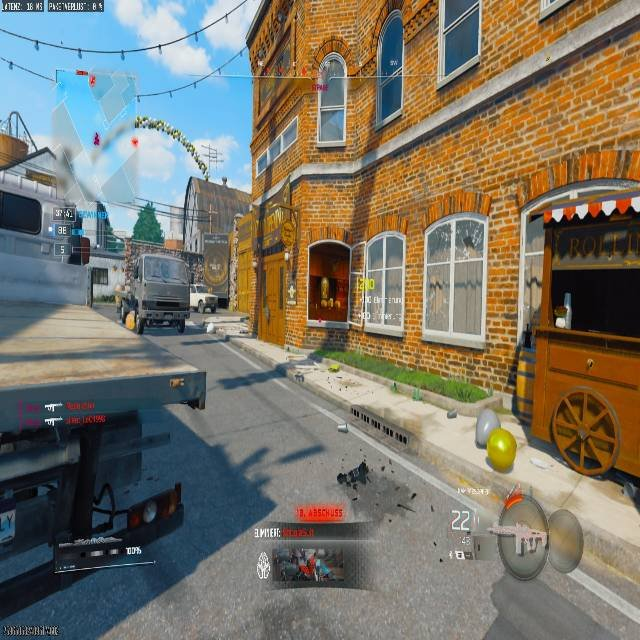player: (118, 284, 141, 328)
